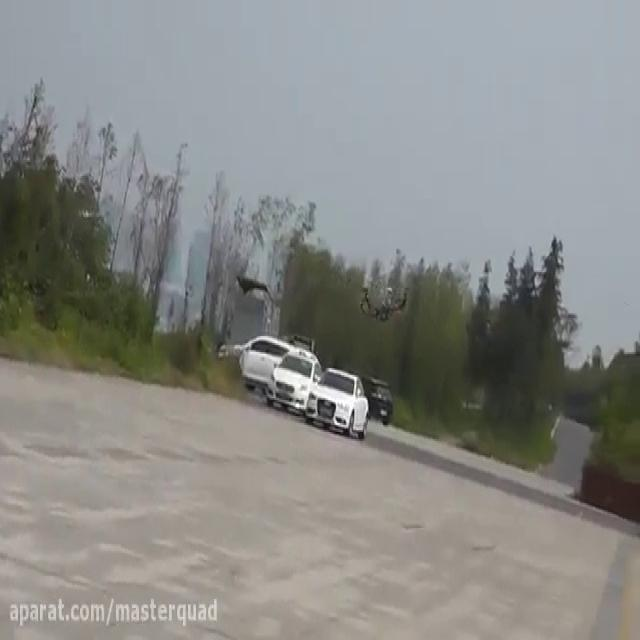drone: (355, 274, 411, 322)
